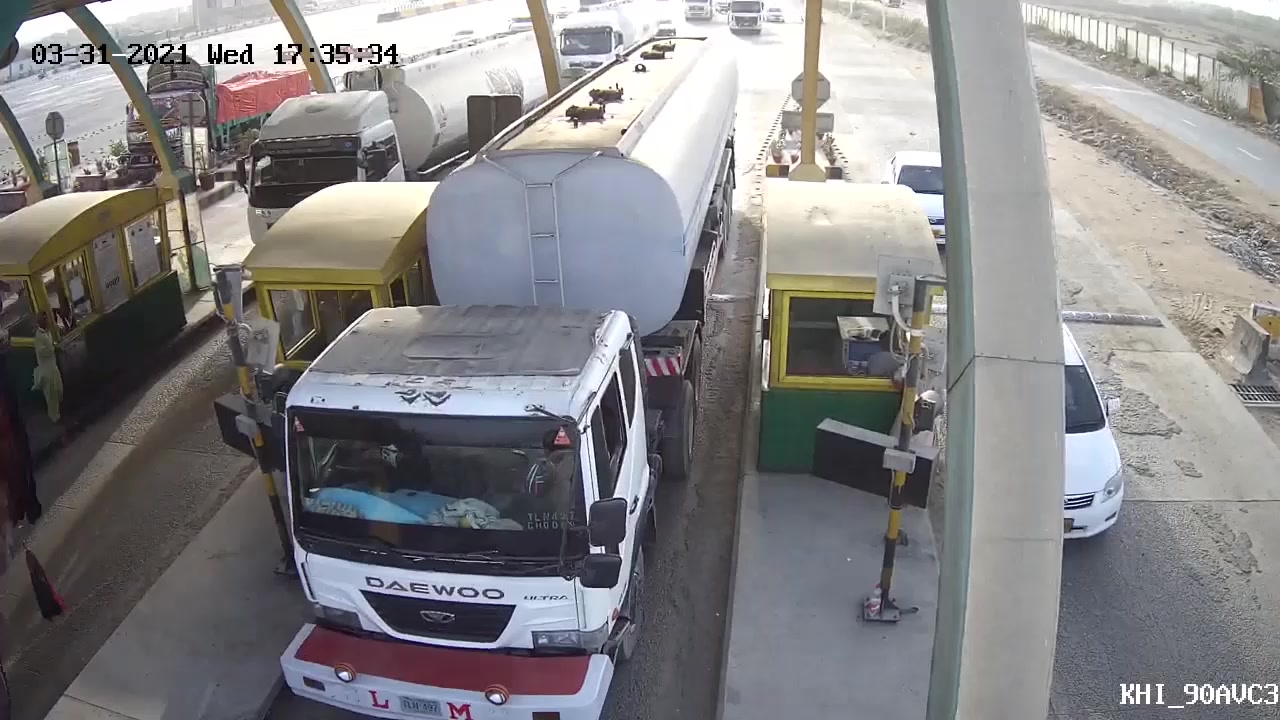F6: (268, 34, 750, 713)
